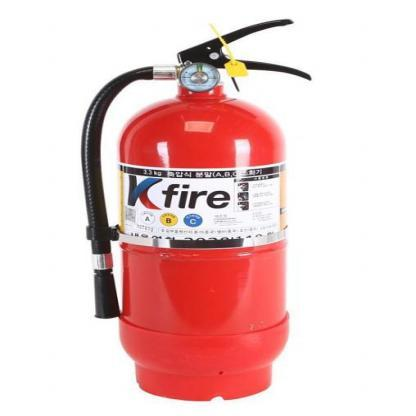Fire Extinguisher: (62, 21, 329, 407)
